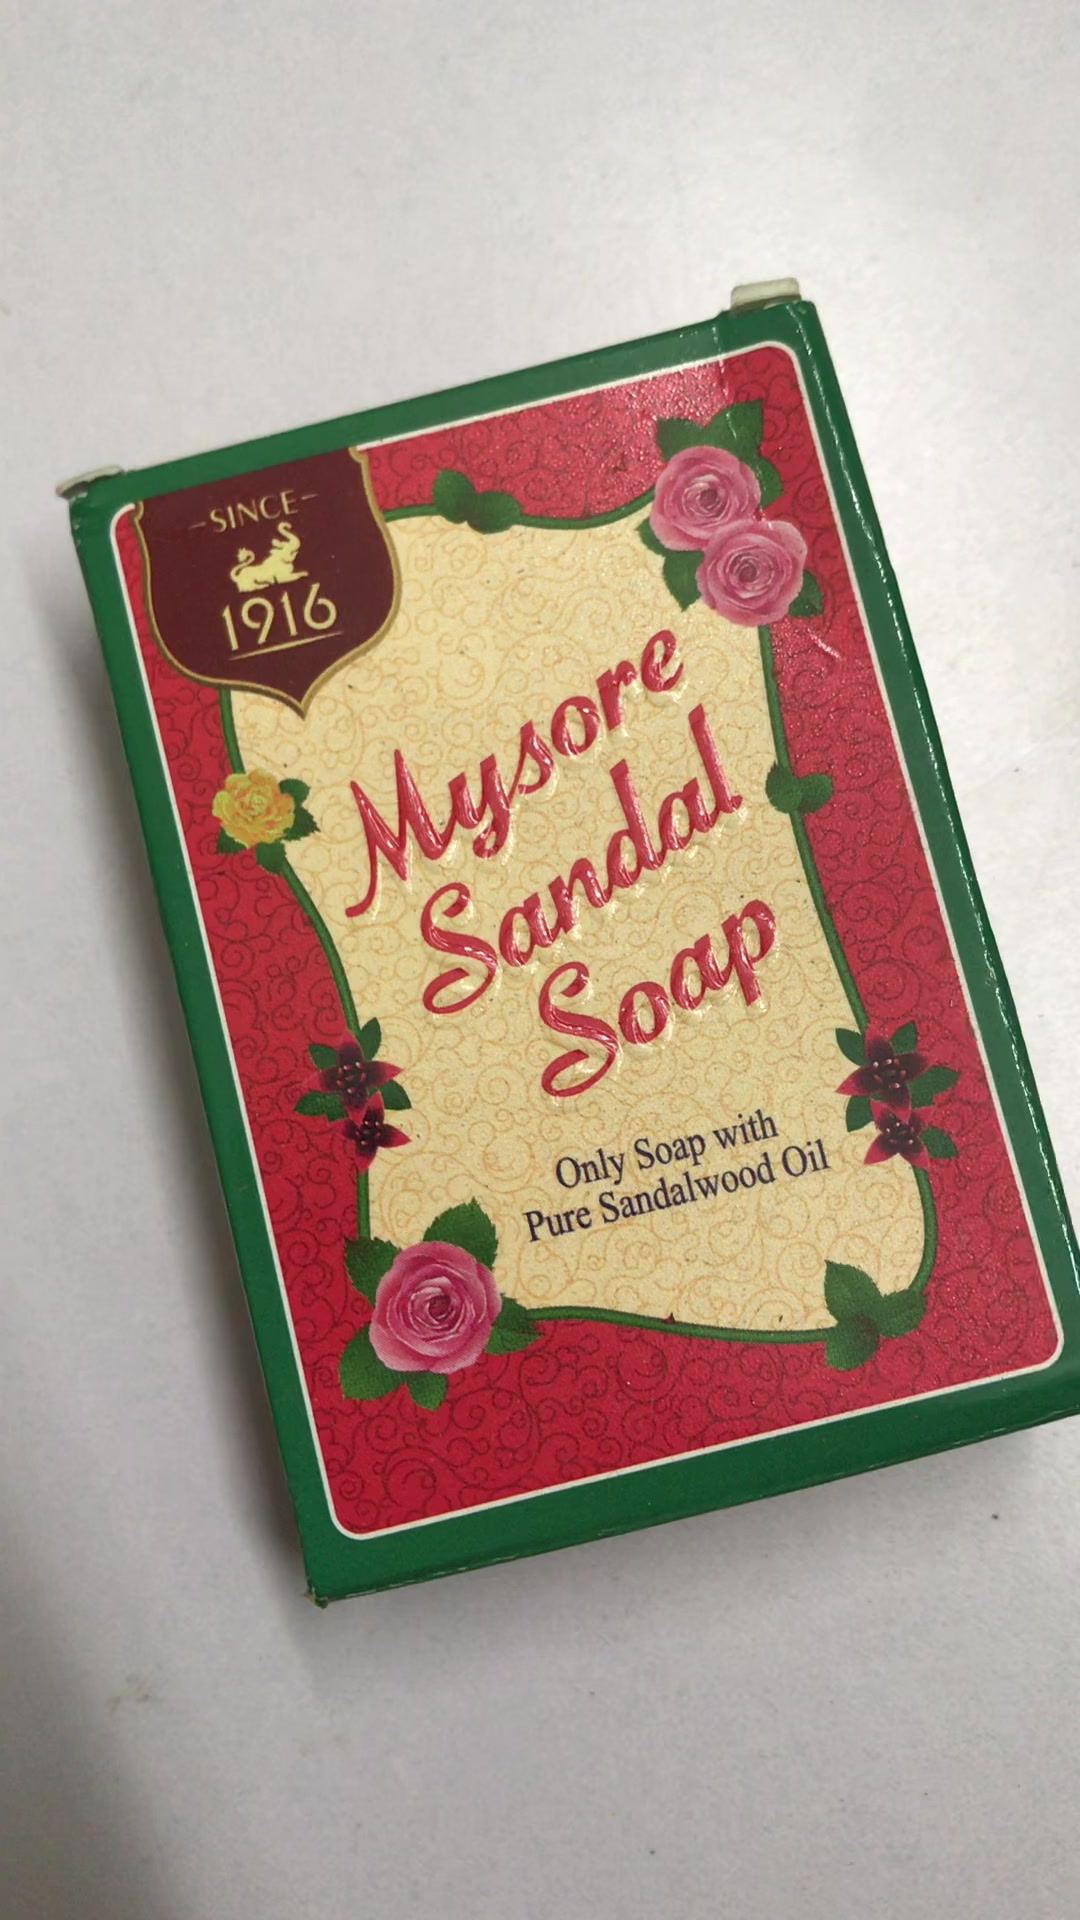mysore sandal soap: (65, 290, 1080, 1597)
